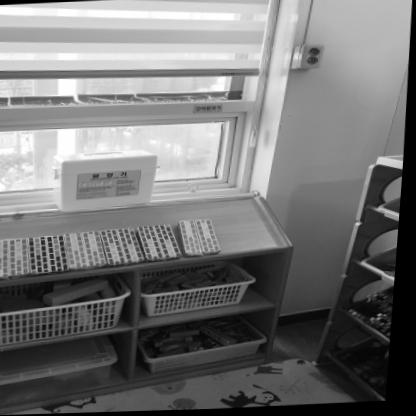DDL: (50, 148, 163, 212)
